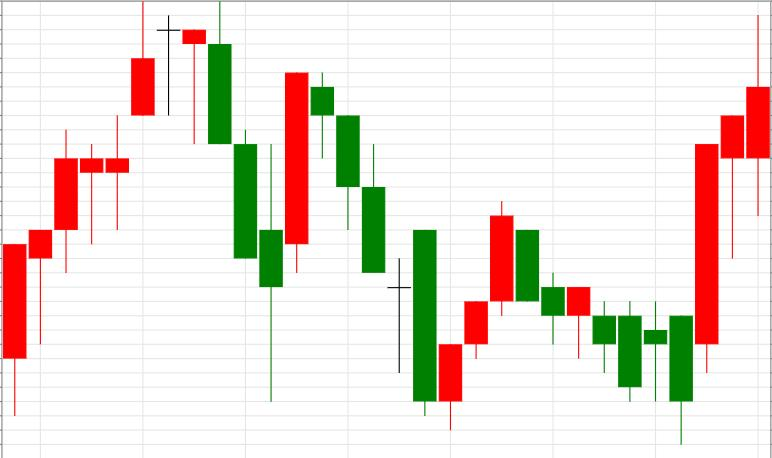three_white_soldiers_rise: (311, 73, 513, 431)
